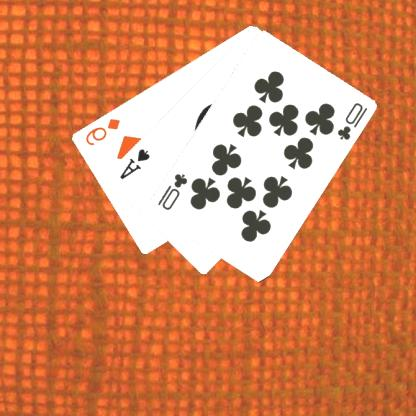10C: (335, 100, 371, 142), (156, 171, 191, 212)
6D: (84, 116, 123, 147)
AS: (118, 145, 153, 181)
